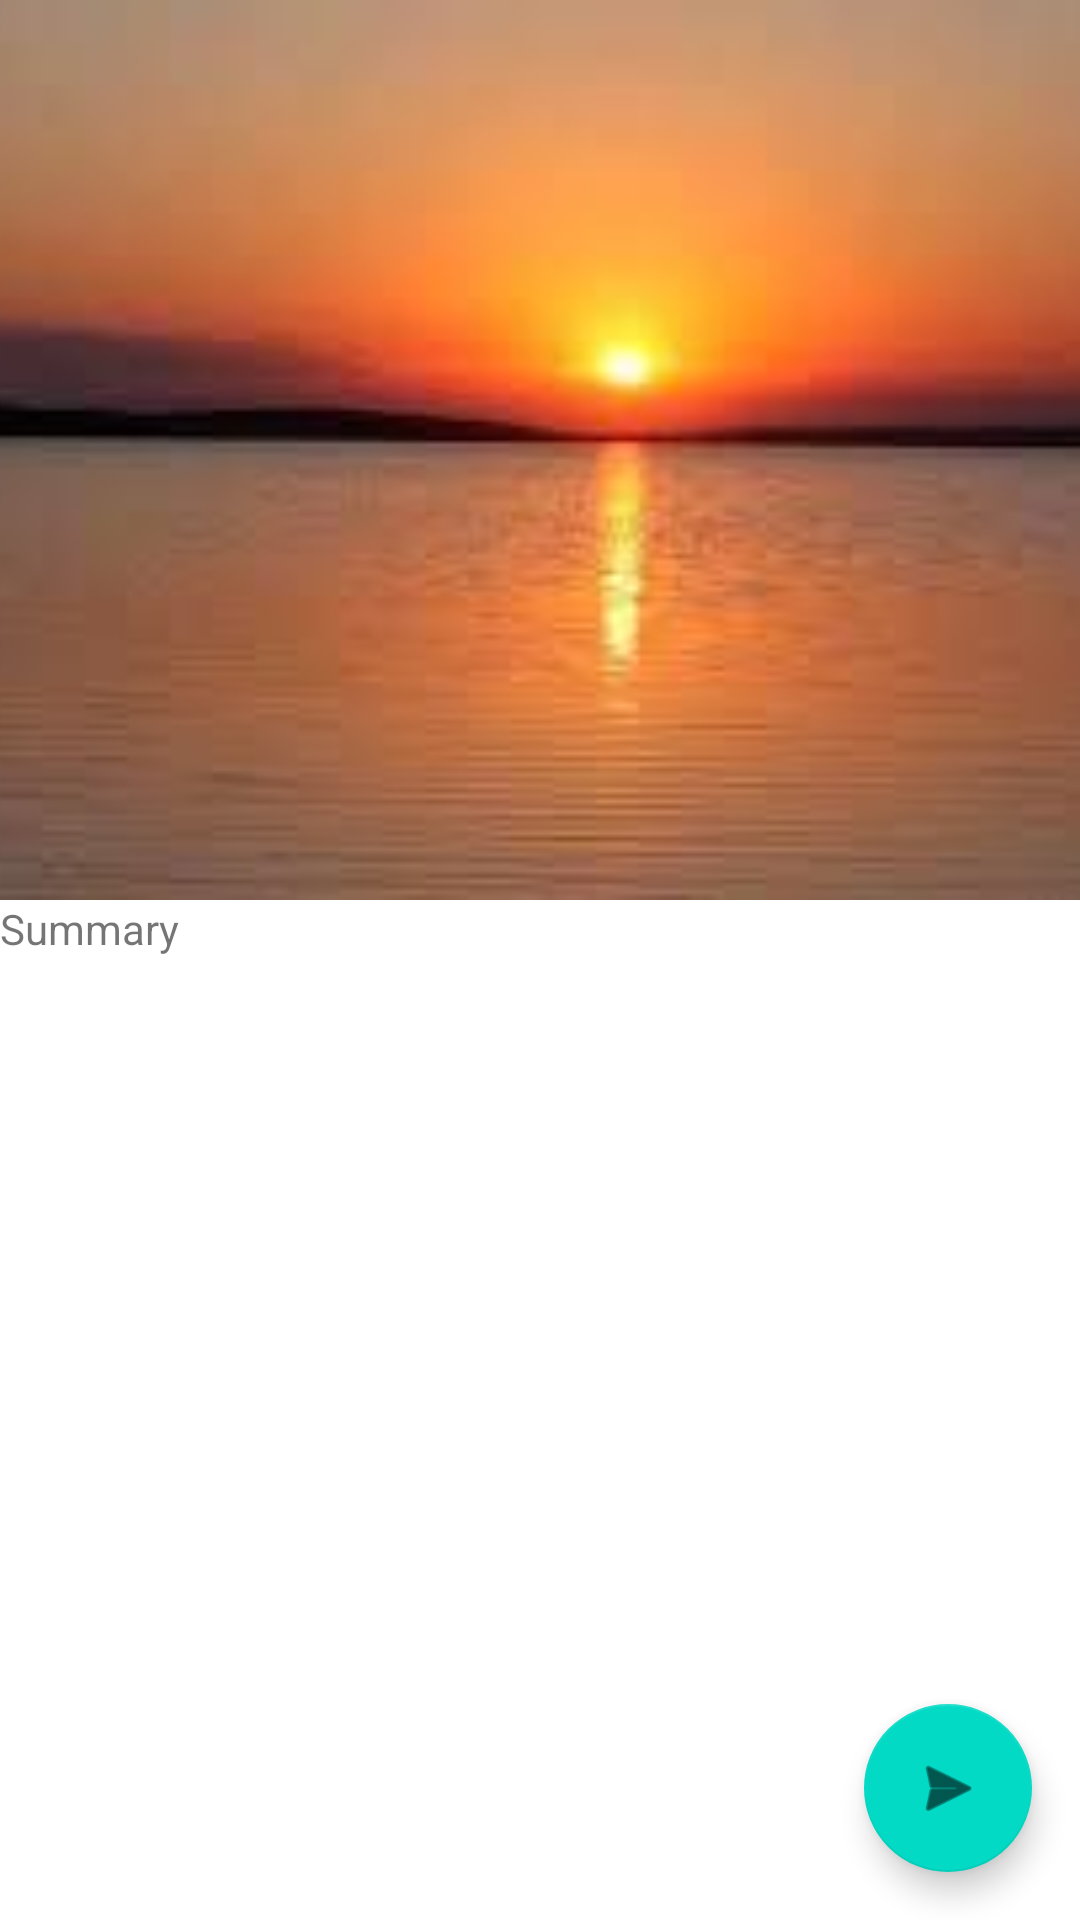

Icon click points for this 1080x1920 phone screenshot, format [x,y]:
send: [948,1788]
